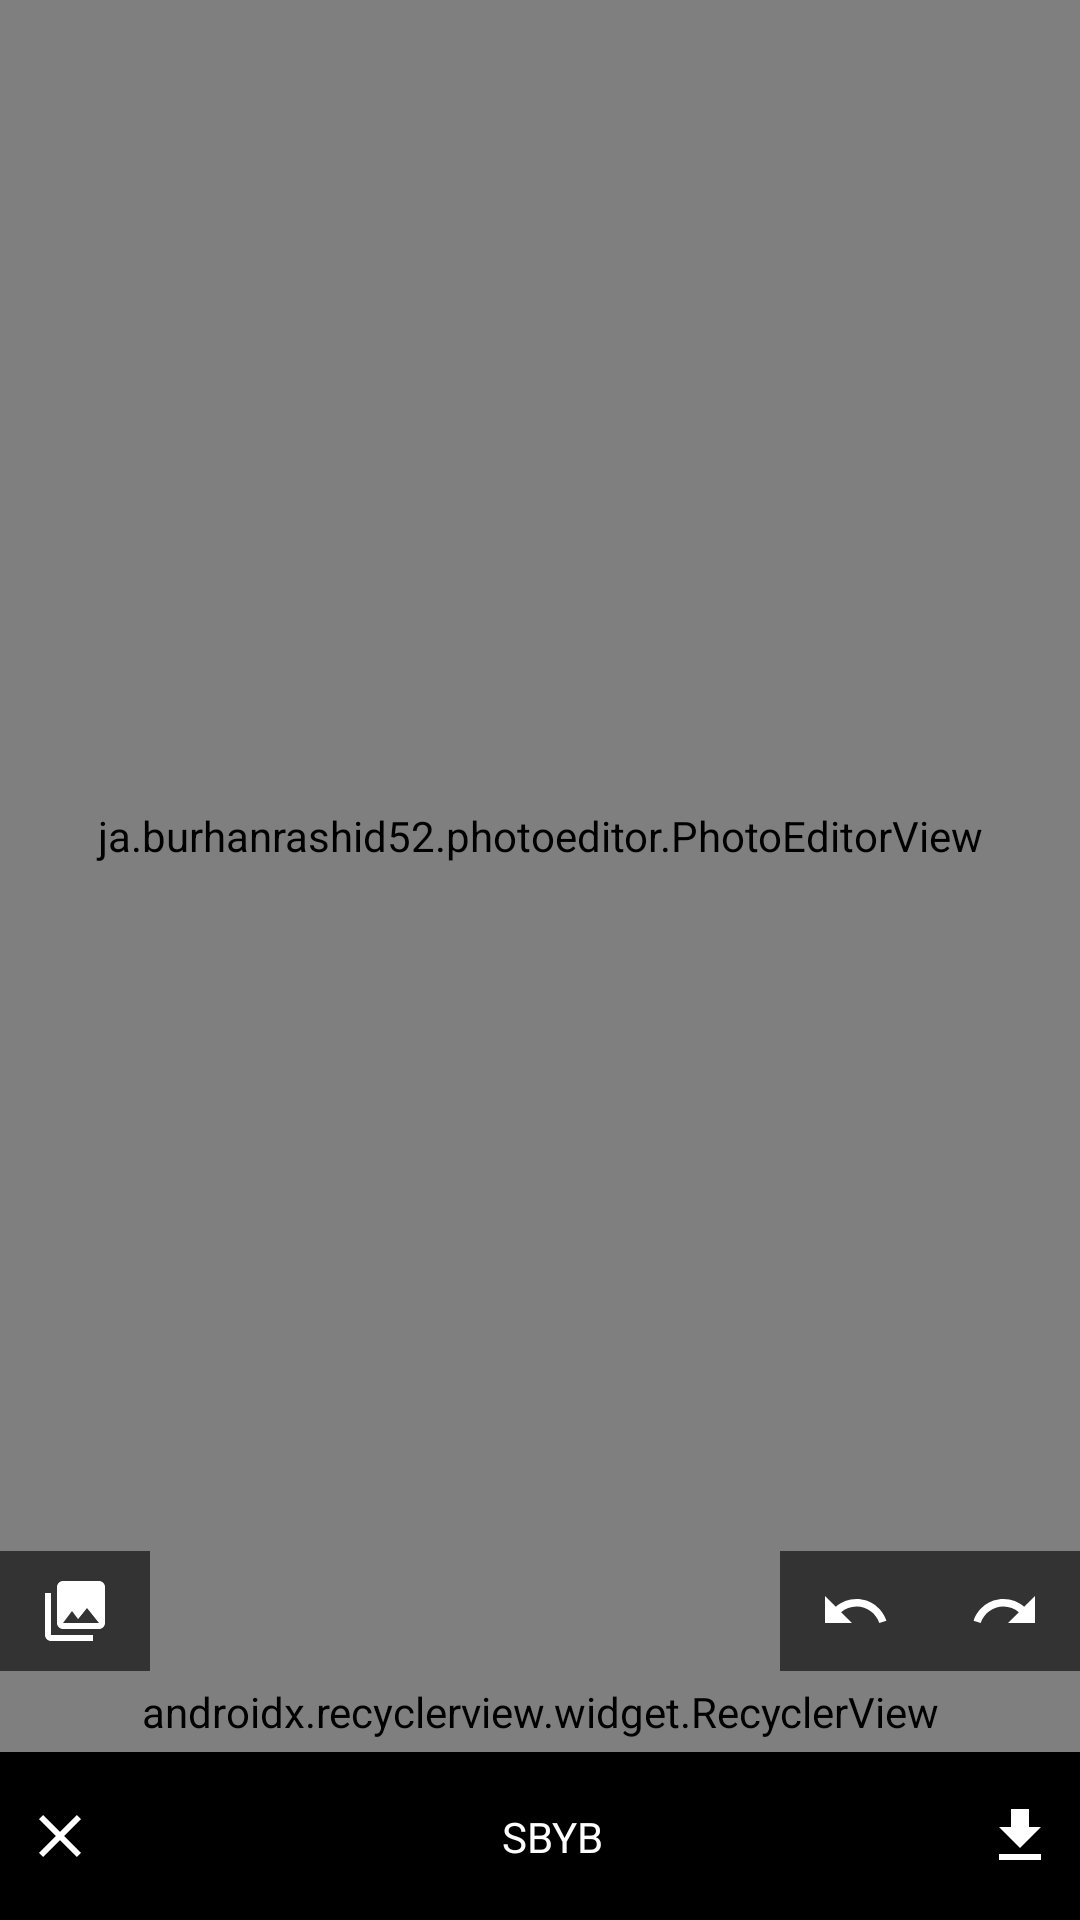

Screen size 1080w x 1920h. Icon name, then its box in pixels as bbox(x1, y1, x2, y2):
close: bbox(39, 1815, 81, 1857)
gallery: bbox(0, 1551, 150, 1671)
redo: bbox(973, 1596, 1035, 1623)
save: bbox(999, 1809, 1041, 1860)
undo: bbox(780, 1551, 930, 1671)
